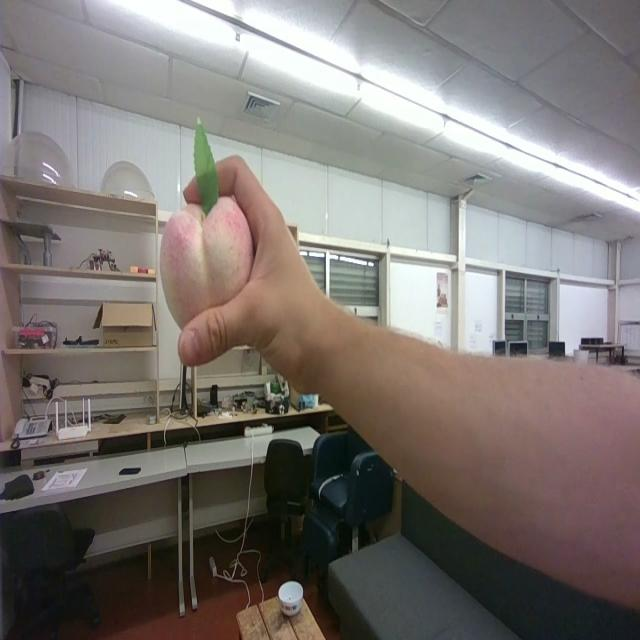peach: (160, 122, 254, 329)
